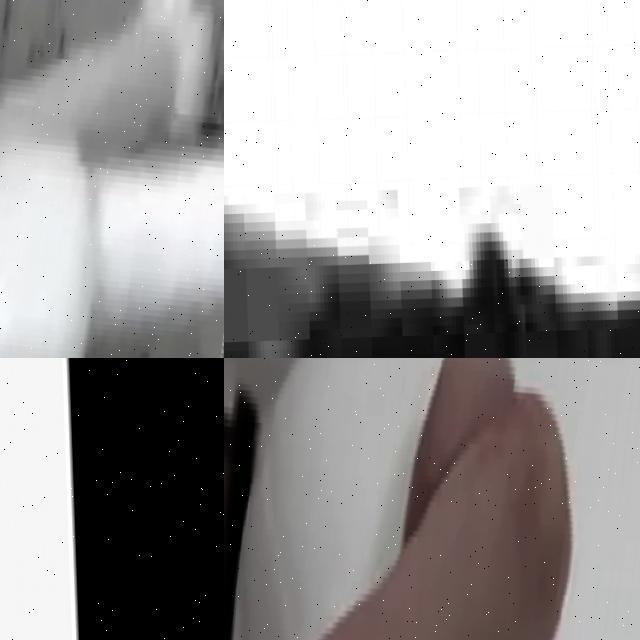drone: (224, 358, 640, 640), (0, 0, 224, 358)
